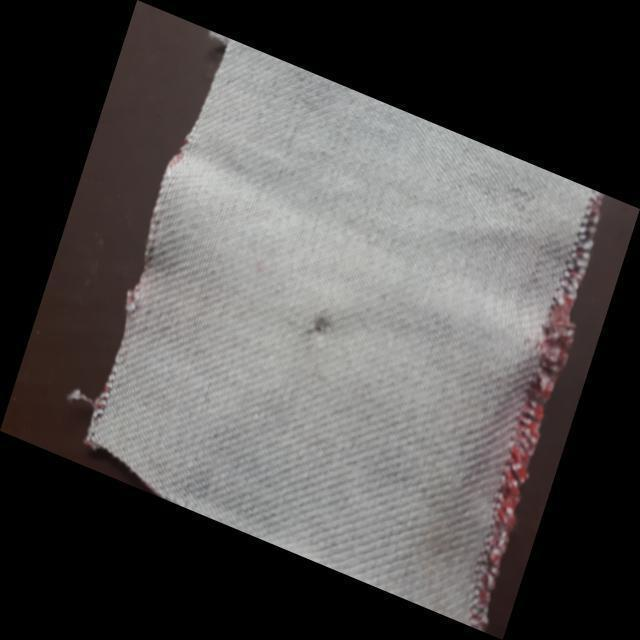seam: (278, 268, 374, 370)
